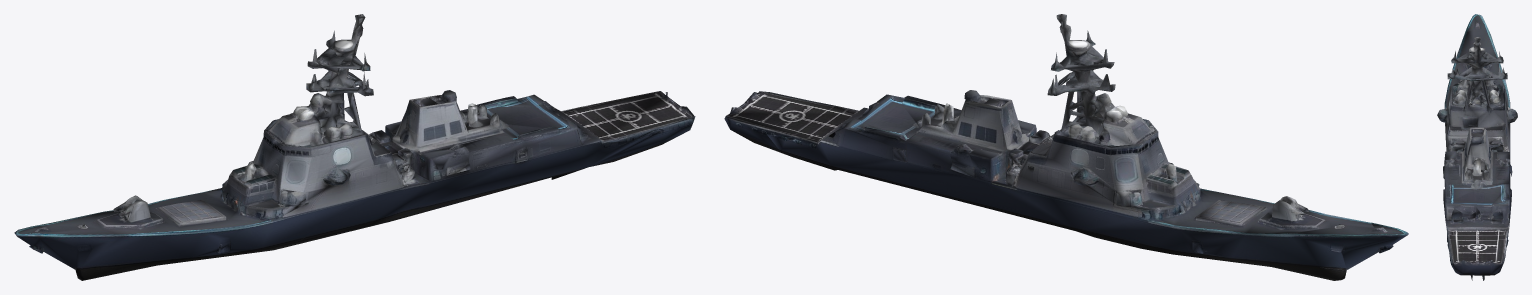
Rendered from arleigh-burke-destroyer-remesh-3k-google-v34.glb.
3 renders of one model, left to right at view 1: azimuth 30°, elevation 25°; view 2: azimuth 150°, elevation 25°; view 3: azimuth 270°, elevation 25°, orthographic. The views are drawn at different scales.
Parts seen in each view (by area): view 1: Mesh1.0; view 2: Mesh1.0; view 3: Mesh1.0.
Boxes of the visible parts, x1=… form: Mesh1.0: x1=14, y1=14, x2=695, y2=280; Mesh1.0: x1=724, y1=14, x2=1408, y2=280; Mesh1.0: x1=1437, y1=14, x2=1517, y2=280.
Size of the model in its own units: 1.9 by 0.5432 by 0.2843.
Materials: 1 (1 with a texture image).
